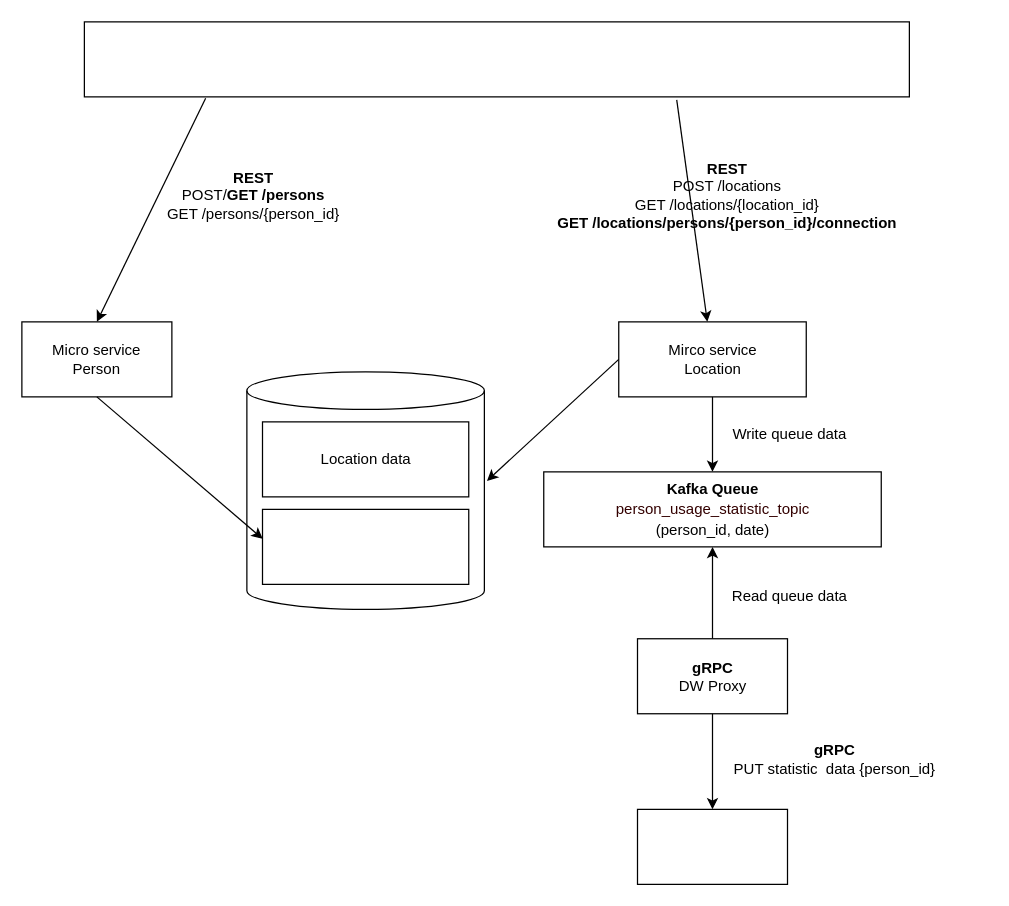
The diagram is 1009 pixels wide and 906 high, and some of its shapes have lost their labels. Here are the shapes that lost their labels. From the top down, the centre of each, then its label:
At point (496, 59): "UdaConnect FE".
At point (365, 546): "Person data".
At point (712, 846): "gRPC DW".
